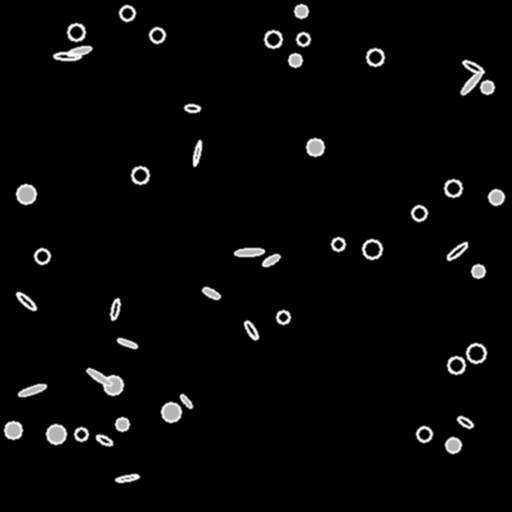pseudomonas: (459, 70, 483, 96), (85, 367, 113, 387), (15, 290, 37, 312), (17, 382, 47, 398), (446, 241, 468, 261), (462, 59, 484, 75), (243, 320, 259, 340), (234, 247, 264, 257), (67, 45, 91, 57), (201, 286, 221, 300), (109, 298, 121, 320), (262, 253, 280, 267), (95, 433, 113, 447), (192, 141, 202, 165), (117, 337, 137, 349), (457, 415, 473, 429), (179, 393, 193, 409), (116, 474, 138, 482), (54, 53, 80, 59), (184, 104, 200, 112)
synechocystis: (363, 240, 381, 258), (17, 185, 35, 203), (162, 403, 180, 421), (47, 425, 65, 443), (467, 344, 485, 362), (104, 376, 122, 394), (265, 31, 281, 47), (367, 49, 383, 65), (68, 24, 84, 40), (132, 167, 148, 183), (448, 357, 464, 373), (307, 139, 323, 155), (445, 180, 461, 196), (5, 422, 21, 438), (412, 206, 426, 220), (120, 6, 134, 20), (35, 249, 49, 263), (150, 28, 164, 42), (417, 427, 431, 441), (489, 190, 503, 204), (446, 438, 460, 452), (481, 81, 493, 93), (332, 238, 344, 250), (297, 33, 309, 45), (289, 54, 301, 66), (295, 5, 307, 17), (75, 428, 87, 440), (472, 265, 484, 277), (116, 418, 128, 430), (277, 311, 289, 323)
